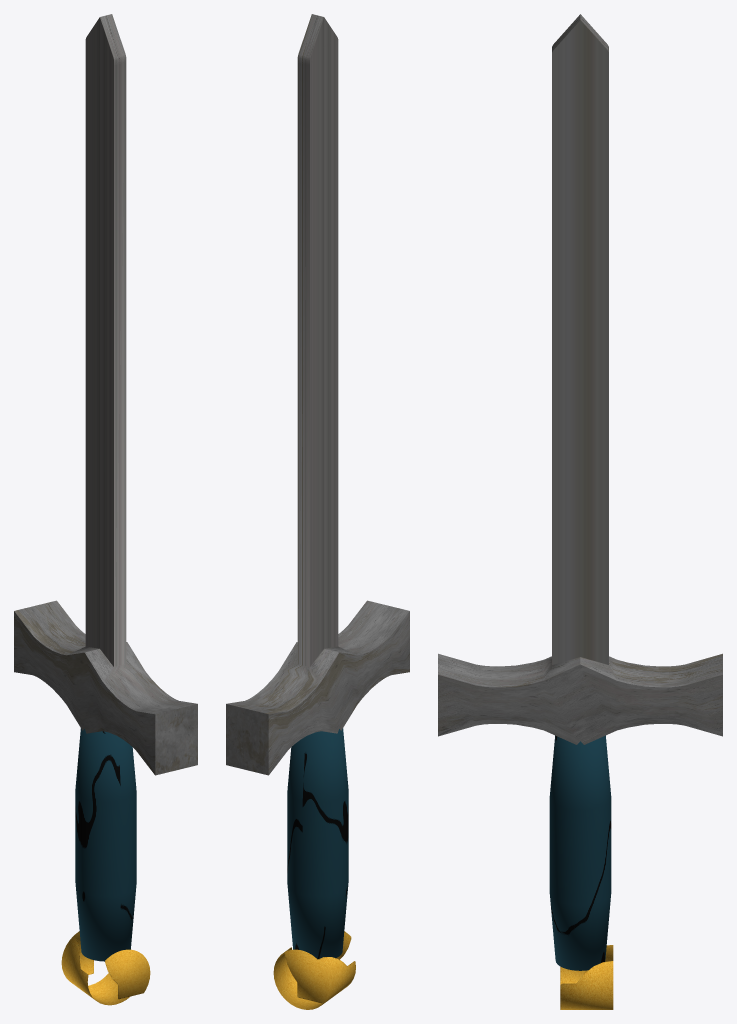
Rendered from TimeTravel_Sword.fbx.
3 views of the same model, side by side, from view 1: azimuth 30°, elevation 25°; view 2: azimuth 150°, elevation 25°; view 3: azimuth 270°, elevation 25° (orthographic).
Visible parts, largest first — view 1: Cube, Cylinder, Cylinder.001; view 2: Cube, Cylinder, Cylinder.001; view 3: Cube, Cylinder, Cylinder.001.
Part boxes in pixels (x1,y1,x2,y2): Cube: [14, 14, 197, 775]; Cylinder: [75, 728, 136, 961]; Cylinder.001: [61, 931, 150, 1005]; Cube: [226, 14, 409, 775]; Cylinder: [287, 728, 348, 959]; Cylinder.001: [273, 931, 355, 1009]; Cube: [438, 14, 722, 744]; Cylinder: [549, 735, 611, 970]; Cylinder.001: [560, 945, 613, 1009].
Bounding box in the file's own units: 263 × 4386 × 1143.
3 materials, 3 textured.
